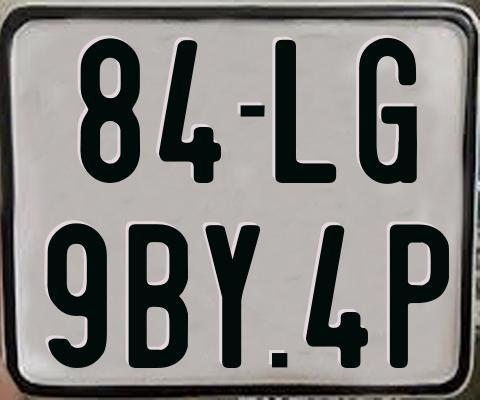4: (159, 37, 227, 183), (306, 222, 369, 368)
8: (80, 36, 144, 182)
9: (46, 221, 108, 367)
B: (128, 221, 189, 367)
G: (359, 36, 421, 187)
L: (272, 37, 334, 180)
P: (387, 223, 449, 370)
Y: (203, 223, 262, 367)
